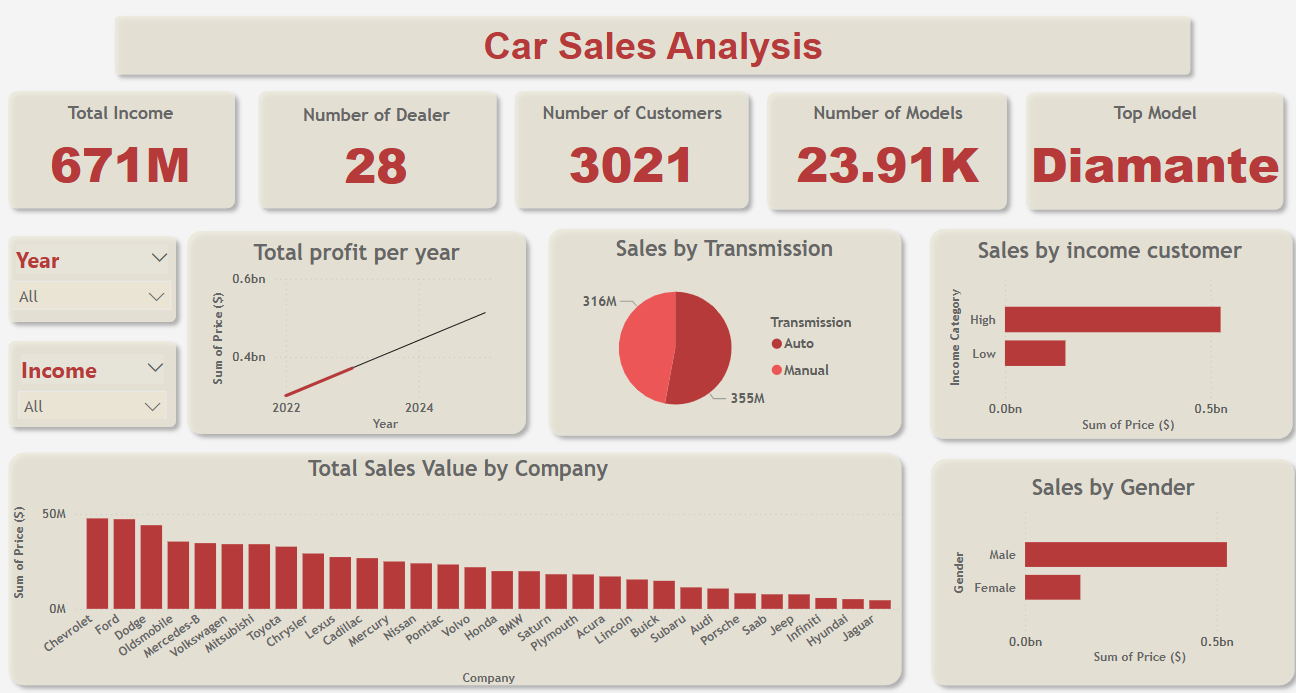

The page's visual inventory and layout, read from the dashboard file:
{"tool":"powerbi","page":{"name":"Page 1","canvas":[1280,720],"ordinal":0},"visuals":[{"type":"shape","box":[995.7,122.9,270,132.9],"z":0},{"type":"shape","box":[495.7,121.4,247.1,132.9],"z":1000},{"type":"shape","box":[244.3,121.4,251.4,132.9],"z":2000},{"type":"shape","box":[0,121.4,240,132.9],"z":3000},{"type":"card","title":"Total Income","fields":{"Values":["Sum(car_analysis.Price ($))"]},"box":[20,141.4,198.6,95.7],"z":4000},{"type":"card","title":"Number of Customers","fields":{"Values":["Count(car_analysis.Customer Name)"]},"box":[512.9,141.4,214.3,95.7],"z":5000},{"type":"card","title":"Number of Dealer","fields":{"Values":["Count(car_analysis.Dealer_Name)"]},"box":[272.9,142.9,192.9,95.7],"z":6000},{"type":"shape","box":[174.3,258,349.9,216.8],"z":7000},{"type":"shape","box":[528.3,255.2,363.6,220.9],"z":8000},{"type":"shape","box":[901.5,255.2,373.2,223.7],"z":9000},{"type":"shape","box":[902,480,374,240],"z":10000},{"type":"barChart","title":"Sales by income customer","fields":{"Category":["car_analysis.Income_Category"],"Y":["Sum(car_analysis.Price ($))"]},"box":[926,274,322,194],"z":11000},{"type":"barChart","title":"Sales by Gender","fields":{"Y":["Sum(car_analysis.Price ($))"],"Category":["car_analysis.Gender"]},"box":[928.9,505.3,321.4,190.7],"z":12000},{"type":"shape","box":[0,474,892,246],"z":13000},{"type":"clusteredColumnChart","title":"Total Sales Value by Company","fields":{"Category":["car_analysis.Company"],"Y":["Sum(car_analysis.Price ($))"]},"box":[9.5,486.2,878.5,228.8],"z":14000},{"type":"shape","box":[742.9,122.9,252.9,132.9],"z":15000},{"type":"card","title":"Number of Models","fields":{"Values":["CountNonNull(car_analysis.Model)"]},"box":[750,141.4,240,95.7],"z":16000},{"type":"card","title":"Top Model","fields":{"Values":["Cars_by_Model.Top_Model"]},"box":[992.9,141.4,272.9,95.7],"z":17000},{"type":"pieChart","title":"Sales by Transmission","fields":{"Y":["Sum(car_analysis.Price ($))"],"Category":["car_analysis.Transmission"]},"box":[564,272,292,196],"z":18000},{"type":"lineChart","title":"Total profit per year","fields":{"Category":["car_analysis.Year"],"Y":["Sum(car_analysis.Price ($))"]},"box":[212,276,292,192],"z":19000},{"type":"shape","box":[104.3,48,1070.3,75.5],"z":20000},{"type":"textbox","box":[244.3,60,791.4,52.9],"z":21000},{"type":"shape","box":[0,263.3,182.2,102.2],"z":22000},{"type":"slicer","fields":{"Values":["car_analysis.Year"]},"box":[3.3,275.6,174.4,72.2],"z":23000},{"type":"shape","box":[0,365.6,182.2,102.2],"z":24000},{"type":"slicer","fields":{"Values":["car_analysis.Income_Category"]},"box":[8.9,382.2,165.6,67.8],"z":25000}]}

Visuals, with their boxes on the page's 1280x720 design canvas (x1, y1, x2, y2). These are canvas units, not pixel positions in the 1296x693 screenshot, which may show the page scaled, cropped or inside an application window:
shape: [left=996, top=123, right=1266, bottom=256]
shape: [left=496, top=121, right=743, bottom=254]
shape: [left=244, top=121, right=496, bottom=254]
shape: [left=0, top=121, right=240, bottom=254]
"Total Income" card: [left=20, top=141, right=219, bottom=237]
"Number of Customers" card: [left=513, top=141, right=727, bottom=237]
"Number of Dealer" card: [left=273, top=143, right=466, bottom=239]
shape: [left=174, top=258, right=524, bottom=475]
shape: [left=528, top=255, right=892, bottom=476]
shape: [left=902, top=255, right=1275, bottom=479]
shape: [left=902, top=480, right=1276, bottom=720]
"Sales by income customer" barChart: [left=926, top=274, right=1248, bottom=468]
"Sales by Gender" barChart: [left=929, top=505, right=1250, bottom=696]
shape: [left=0, top=474, right=892, bottom=720]
"Total Sales Value by Company" clusteredColumnChart: [left=10, top=486, right=888, bottom=715]
shape: [left=743, top=123, right=996, bottom=256]
"Number of Models" card: [left=750, top=141, right=990, bottom=237]
"Top Model" card: [left=993, top=141, right=1266, bottom=237]
"Sales by Transmission" pieChart: [left=564, top=272, right=856, bottom=468]
"Total profit per year" lineChart: [left=212, top=276, right=504, bottom=468]
shape: [left=104, top=48, right=1175, bottom=124]
textbox: [left=244, top=60, right=1036, bottom=113]
shape: [left=0, top=263, right=182, bottom=366]
slicer - car_analysis.Year: [left=3, top=276, right=178, bottom=348]
shape: [left=0, top=366, right=182, bottom=468]
slicer - car_analysis.Income_Category: [left=9, top=382, right=174, bottom=450]
